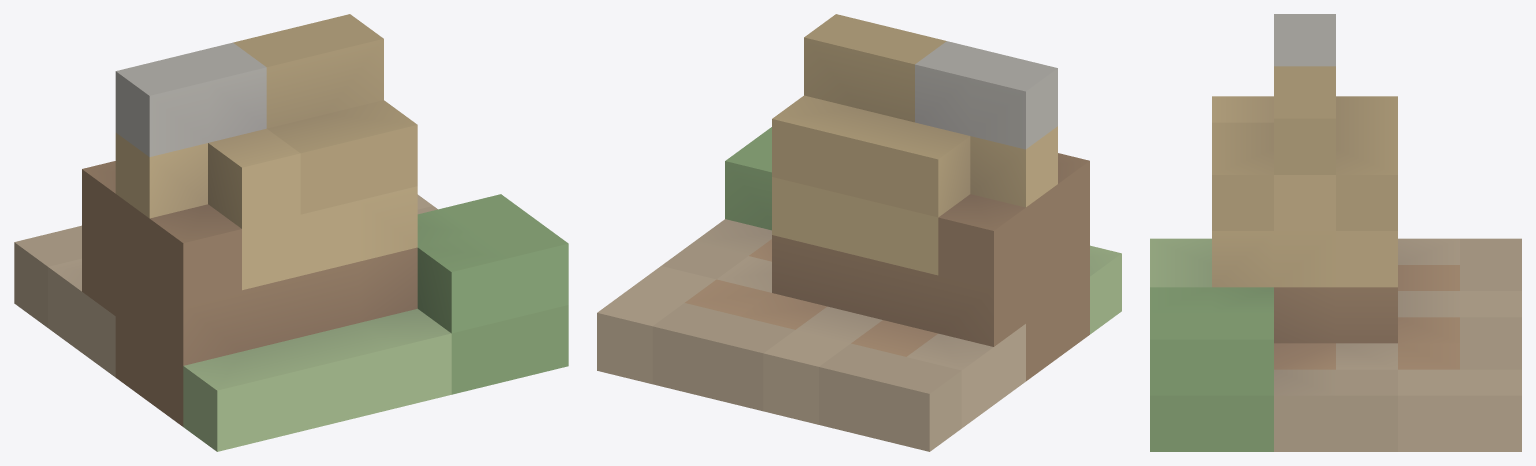
Rendered from lumberjack.lite.glb.
3 views of the same model, side by side, from view 1: azimuth 30°, elevation 25°; view 2: azimuth 150°, elevation 25°; view 3: azimuth 270°, elevation 25° (orthographic). The views are drawn at different scales.
Visible parts, largest first — view 1: lumberjack; view 2: lumberjack; view 3: lumberjack.
Part boxes in pixels (x1=…): lumberjack: x1=14, y1=14, x2=568, y2=451; lumberjack: x1=597, y1=14, x2=1121, y2=451; lumberjack: x1=1150, y1=14, x2=1521, y2=451.
Size of the model in its own units: 3 by 2.5 by 3.
